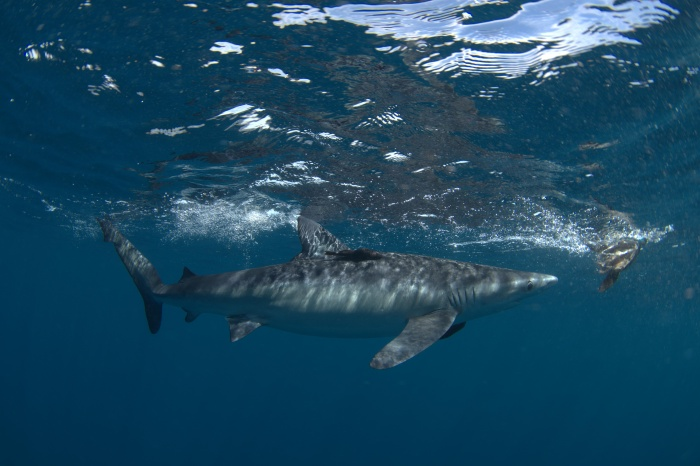Azul: (75, 200, 570, 387)
